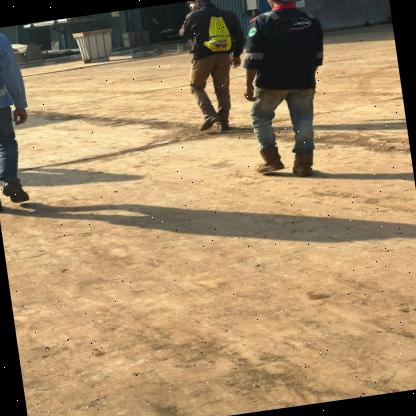bota: (0, 170, 41, 210), (243, 144, 287, 179), (190, 100, 224, 136), (286, 149, 320, 180), (213, 117, 234, 136)
